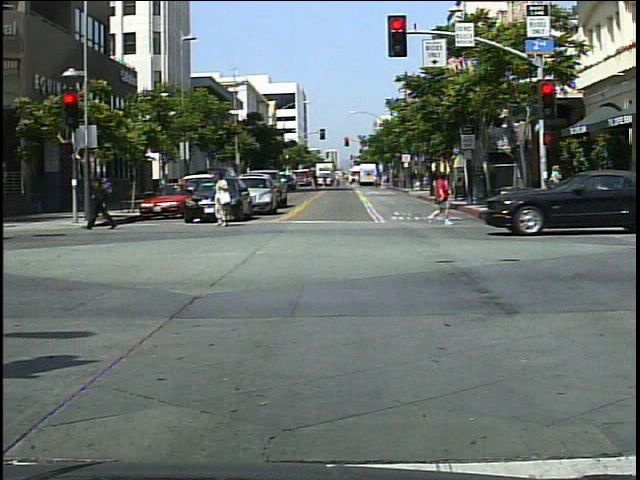person: (211, 167, 243, 231), (88, 169, 116, 234), (427, 168, 456, 224), (546, 160, 568, 211)
